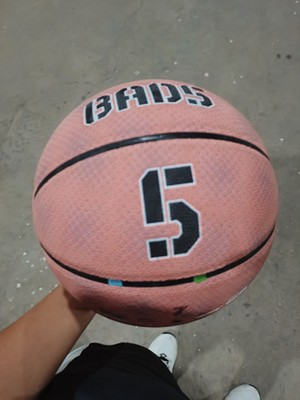ball: (31, 77, 281, 330)
